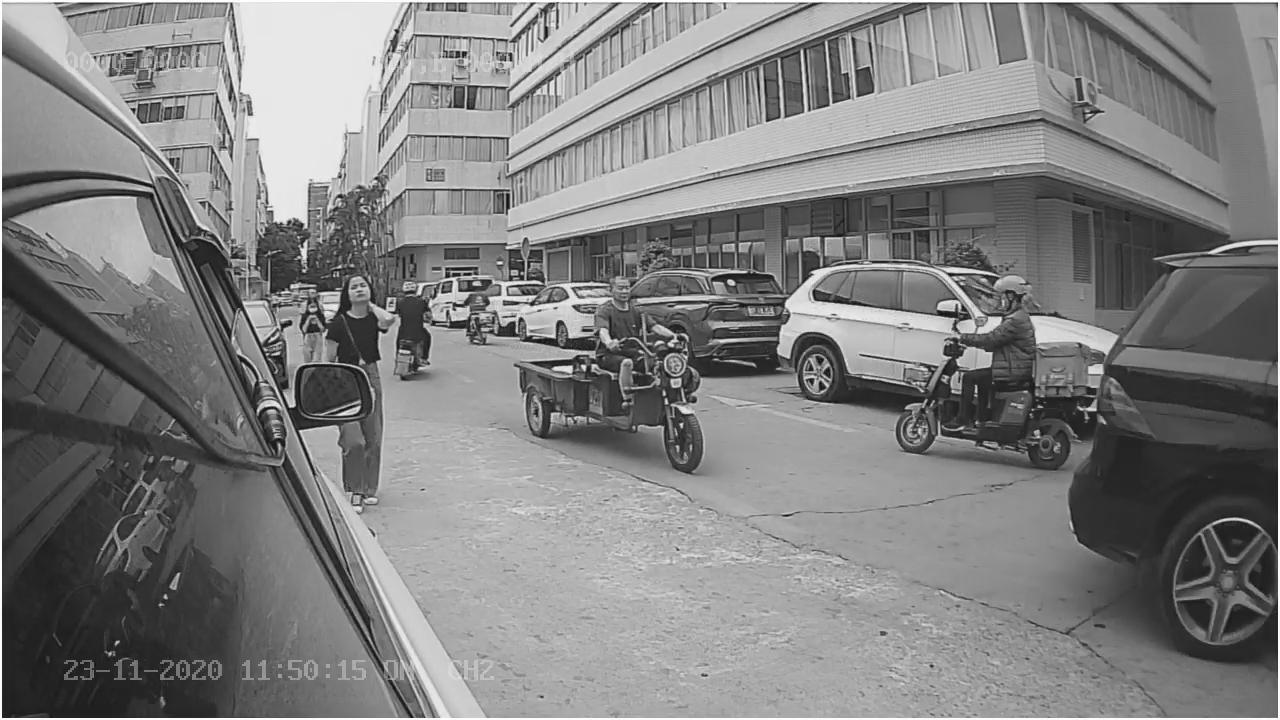person: (319, 268, 395, 360), (959, 260, 1032, 349)
